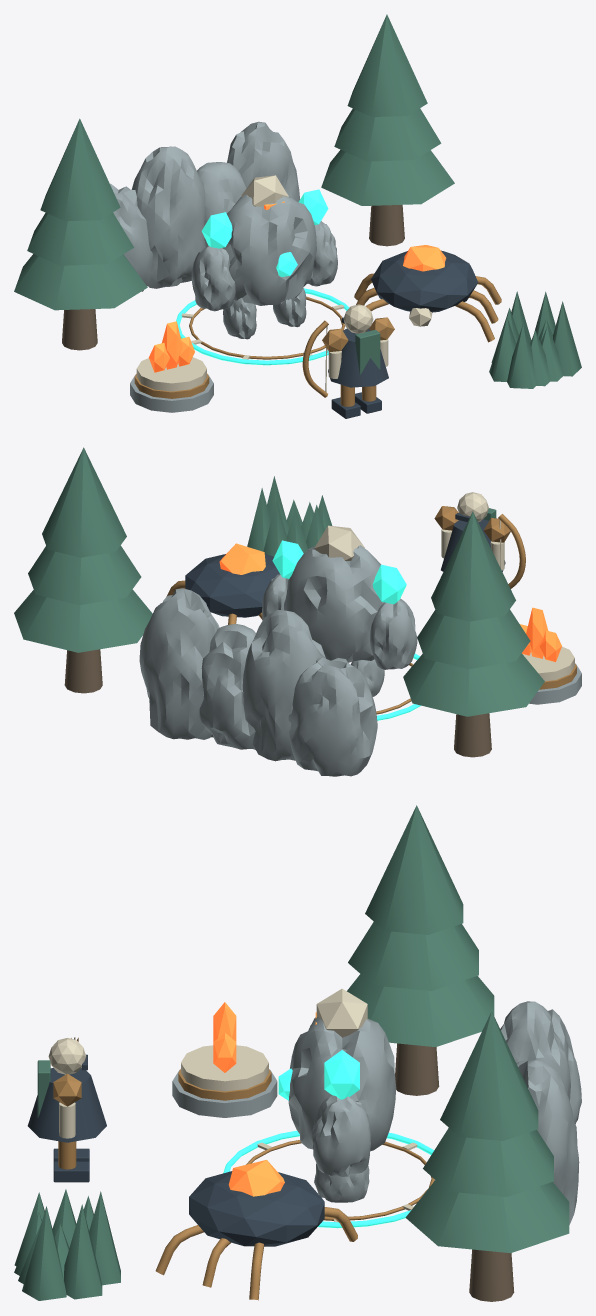
The model's file is sunfall-rift-moba-colossus-camp-fc3eba1b__22008.glb.
The picture shows the model from 3 angles, top to bottom: view 1: azimuth 30°, elevation 25°; view 2: azimuth 150°, elevation 25°; view 3: azimuth 270°, elevation 25°; orthographic projection. The views are drawn at different scales.
Visible parts, largest first — view 1: 001-cliff-ridge/0, 003-canopy-pine/1, 002-canopy-pine/1, 000-rift-colossus/0, 006-concealment-brush/0, 004-crystal-scarab/0, 007-thorn-ranger/0, 007-thorn-ranger/1, 000-rift-colossus/1, 005-jungle-buff-altar/2, 004-crystal-scarab/1, 005-jungle-buff-altar/3 (+10 smaller); view 2: 001-cliff-ridge/0, 002-canopy-pine/1, 003-canopy-pine/1, 000-rift-colossus/0, 004-crystal-scarab/0, 006-concealment-brush/0, 000-rift-colossus/1, 003-canopy-pine/0, 002-canopy-pine/0, 007-thorn-ranger/1, 005-jungle-buff-altar/3, 007-thorn-ranger/2 (+5 smaller); view 3: 003-canopy-pine/1, 002-canopy-pine/1, 000-rift-colossus/0, 001-cliff-ridge/0, 006-concealment-brush/0, 004-crystal-scarab/0, 007-thorn-ranger/0, 005-jungle-buff-altar/2, 004-crystal-scarab/1, 003-canopy-pine/0, 005-jungle-buff-altar/0, 002-canopy-pine/0 (+9 smaller).
Boxes of the visible parts, box(x1,y1,x2,y2) form: 001-cliff-ridge/0: box(110, 121, 299, 291); 003-canopy-pine/1: box(321, 14, 454, 205); 002-canopy-pine/1: box(14, 118, 147, 310); 000-rift-colossus/0: box(191, 192, 337, 339); 006-concealment-brush/0: box(489, 291, 581, 388); 004-crystal-scarab/0: box(371, 250, 478, 312); 007-thorn-ranger/0: box(328, 317, 388, 418); 007-thorn-ranger/1: box(302, 317, 394, 406); 000-rift-colossus/1: box(201, 189, 328, 276); 005-jungle-buff-altar/2: box(136, 357, 206, 391); 004-crystal-scarab/1: box(354, 273, 501, 342); 005-jungle-buff-altar/3: box(148, 321, 194, 372); 001-cliff-ridge/0: box(139, 588, 377, 776); 002-canopy-pine/1: box(403, 511, 544, 716); 003-canopy-pine/1: box(14, 447, 152, 652); 000-rift-colossus/0: box(262, 545, 417, 696); 004-crystal-scarab/0: box(185, 554, 279, 617); 006-concealment-brush/0: box(247, 476, 332, 556); 000-rift-colossus/1: box(272, 540, 406, 604); 003-canopy-pine/0: box(64, 649, 102, 693); 002-canopy-pine/0: box(454, 713, 491, 757); 007-thorn-ranger/1: box(434, 506, 525, 588); 005-jungle-buff-altar/3: box(520, 607, 561, 661); 007-thorn-ranger/2: box(441, 492, 504, 570); 003-canopy-pine/1: box(405, 1011, 569, 1253); 002-canopy-pine/1: box(347, 805, 494, 1046); 000-rift-colossus/0: box(288, 1017, 396, 1202); 001-cliff-ridge/0: box(500, 1001, 581, 1224); 006-concealment-brush/0: box(14, 1189, 120, 1300); 004-crystal-scarab/0: box(189, 1171, 324, 1246); 007-thorn-ranger/0: box(27, 1054, 106, 1182); 005-jungle-buff-altar/2: box(181, 1045, 268, 1091); 004-crystal-scarab/1: box(155, 1207, 357, 1300); 003-canopy-pine/0: box(469, 1249, 514, 1301); 005-jungle-buff-altar/0: box(172, 1070, 277, 1117); 002-canopy-pine/0: box(395, 1043, 439, 1095).
Bounding box in the file's own units: 8.74 × 4.14 × 7.57.
